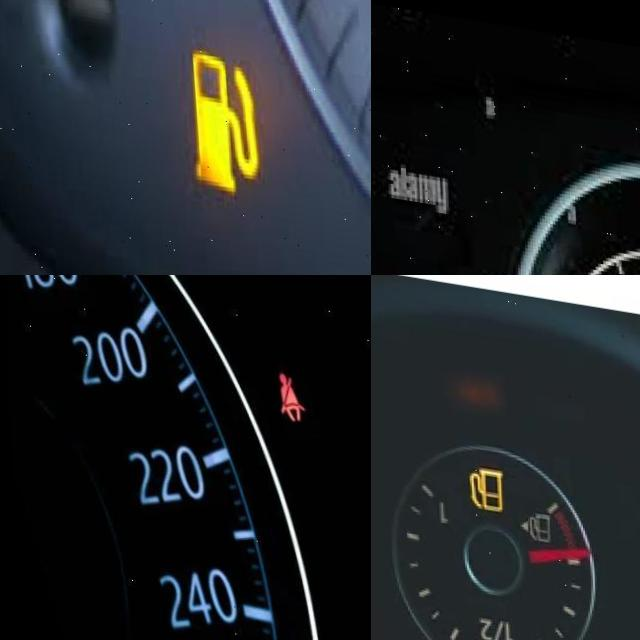Seat Belt: (271, 360, 306, 415)
